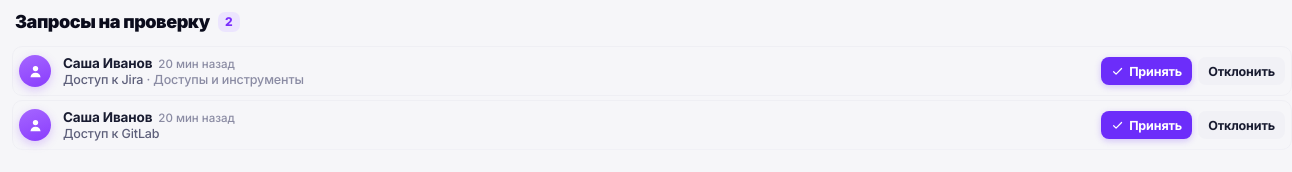
Scenario: Reviews › «Принять» убирает запрос, показывает итог и сообщает главной
Expected: the text "Доступ к GitLab" is shown, [63,126,160,141]
Click the button "Принять" in the row of "Доступ к GitLab": (1147,125) [1101,111,1192,139]
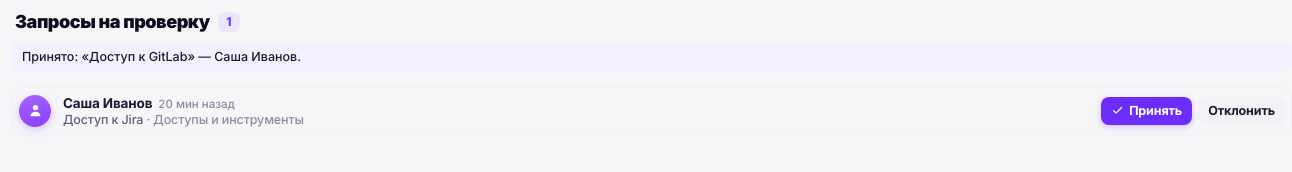
Expected: the message reads "Принято: «Доступ к GitLab» — Саша Иванов.", [22,49,301,64]
